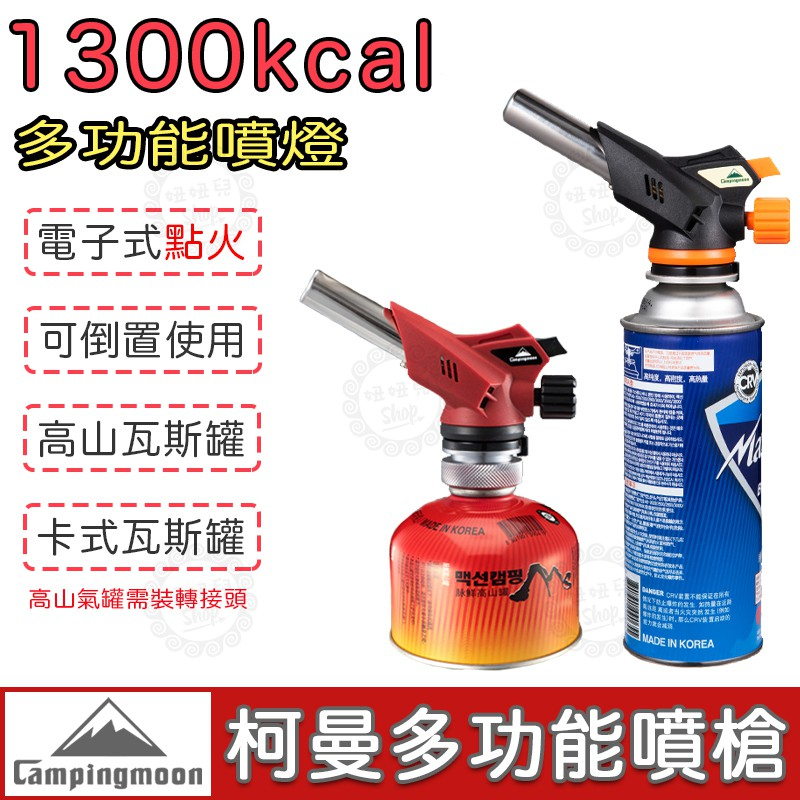gastorch: (500, 77, 796, 671), (296, 255, 592, 668)
